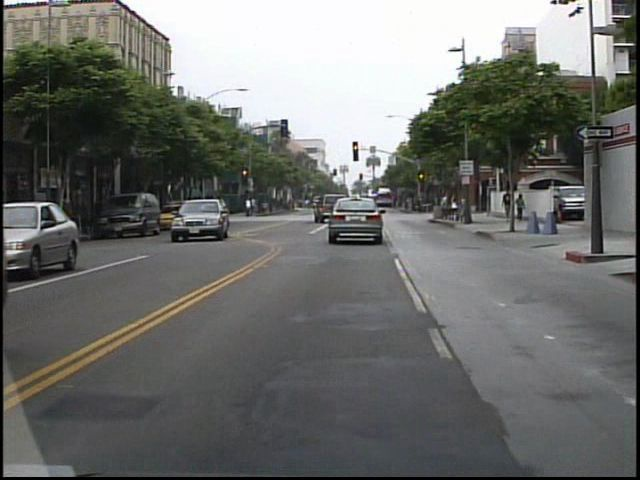person: (437, 189, 456, 222), (515, 191, 527, 225), (501, 186, 512, 221), (246, 193, 255, 219)
